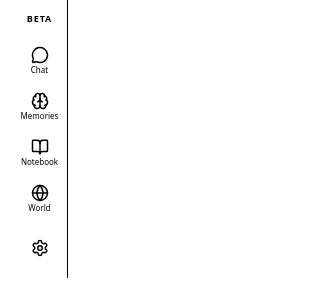
Test: IconRailV2 › clicking "Memories" opens a popover with Self, Network, Topics
The image size is (332, 295).
Click the button labelled "Memories".
click(40, 106)  # box [16, 86, 64, 126]
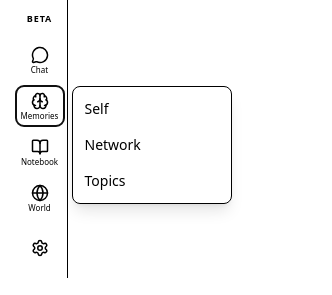
Expected: the menu item "Self" is shown, [72, 90, 230, 126]
Expected: the menu item "Network" is shown, [72, 126, 230, 162]
Expected: the menu item "Topics" is shown, [72, 162, 230, 198]
